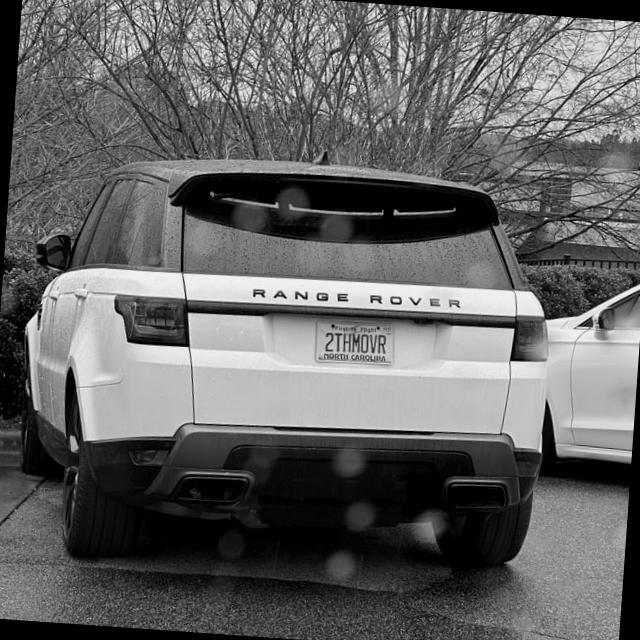LicensePlate: (313, 318, 394, 366)
